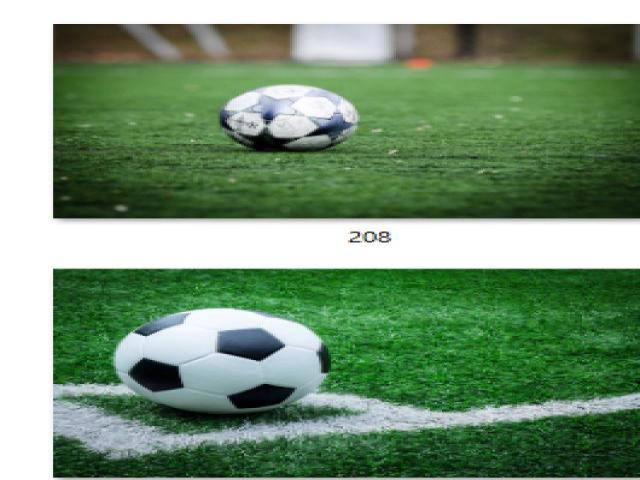round ball: (115, 308, 330, 413), (220, 84, 358, 150)
